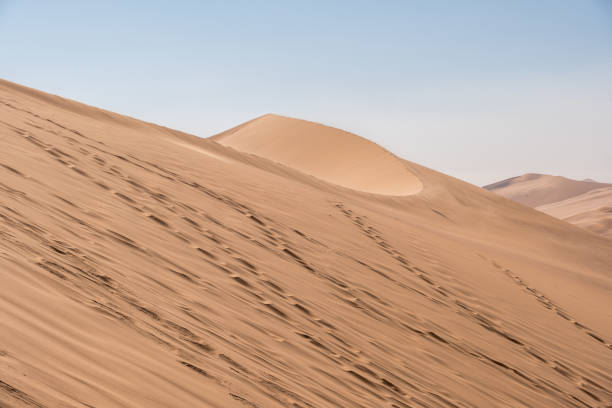human_footprint: (344, 203, 391, 247), (96, 174, 150, 211), (294, 326, 348, 361), (36, 146, 83, 176), (342, 364, 386, 394), (191, 242, 231, 272), (391, 247, 429, 278), (241, 265, 266, 306), (157, 214, 184, 240), (297, 301, 321, 327), (274, 266, 292, 300), (272, 296, 290, 326)
